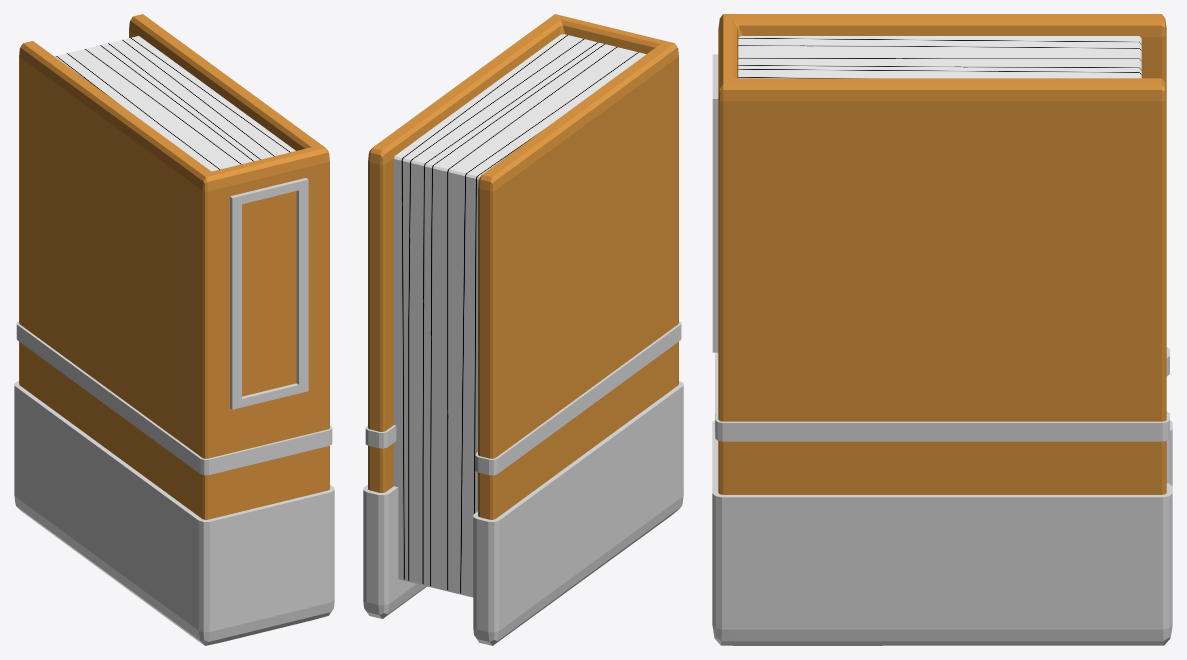
File: Book_5.fbx
3 views of the same model, side by side, from view 1: azimuth 30°, elevation 25°; view 2: azimuth 150°, elevation 25°; view 3: azimuth 270°, elevation 25° (orthographic). The views are drawn at different scales.
Parts seen in each view (by area): view 1: Cube.007; view 2: Cube.007; view 3: Cube.007.
Part boxes in pixels (x1,y1,x2,y2): Cube.007: (14,14,334,645); Cube.007: (363,14,683,645); Cube.007: (712,14,1172,645).
Size of the model in its own units: 199 by 657 by 489.
